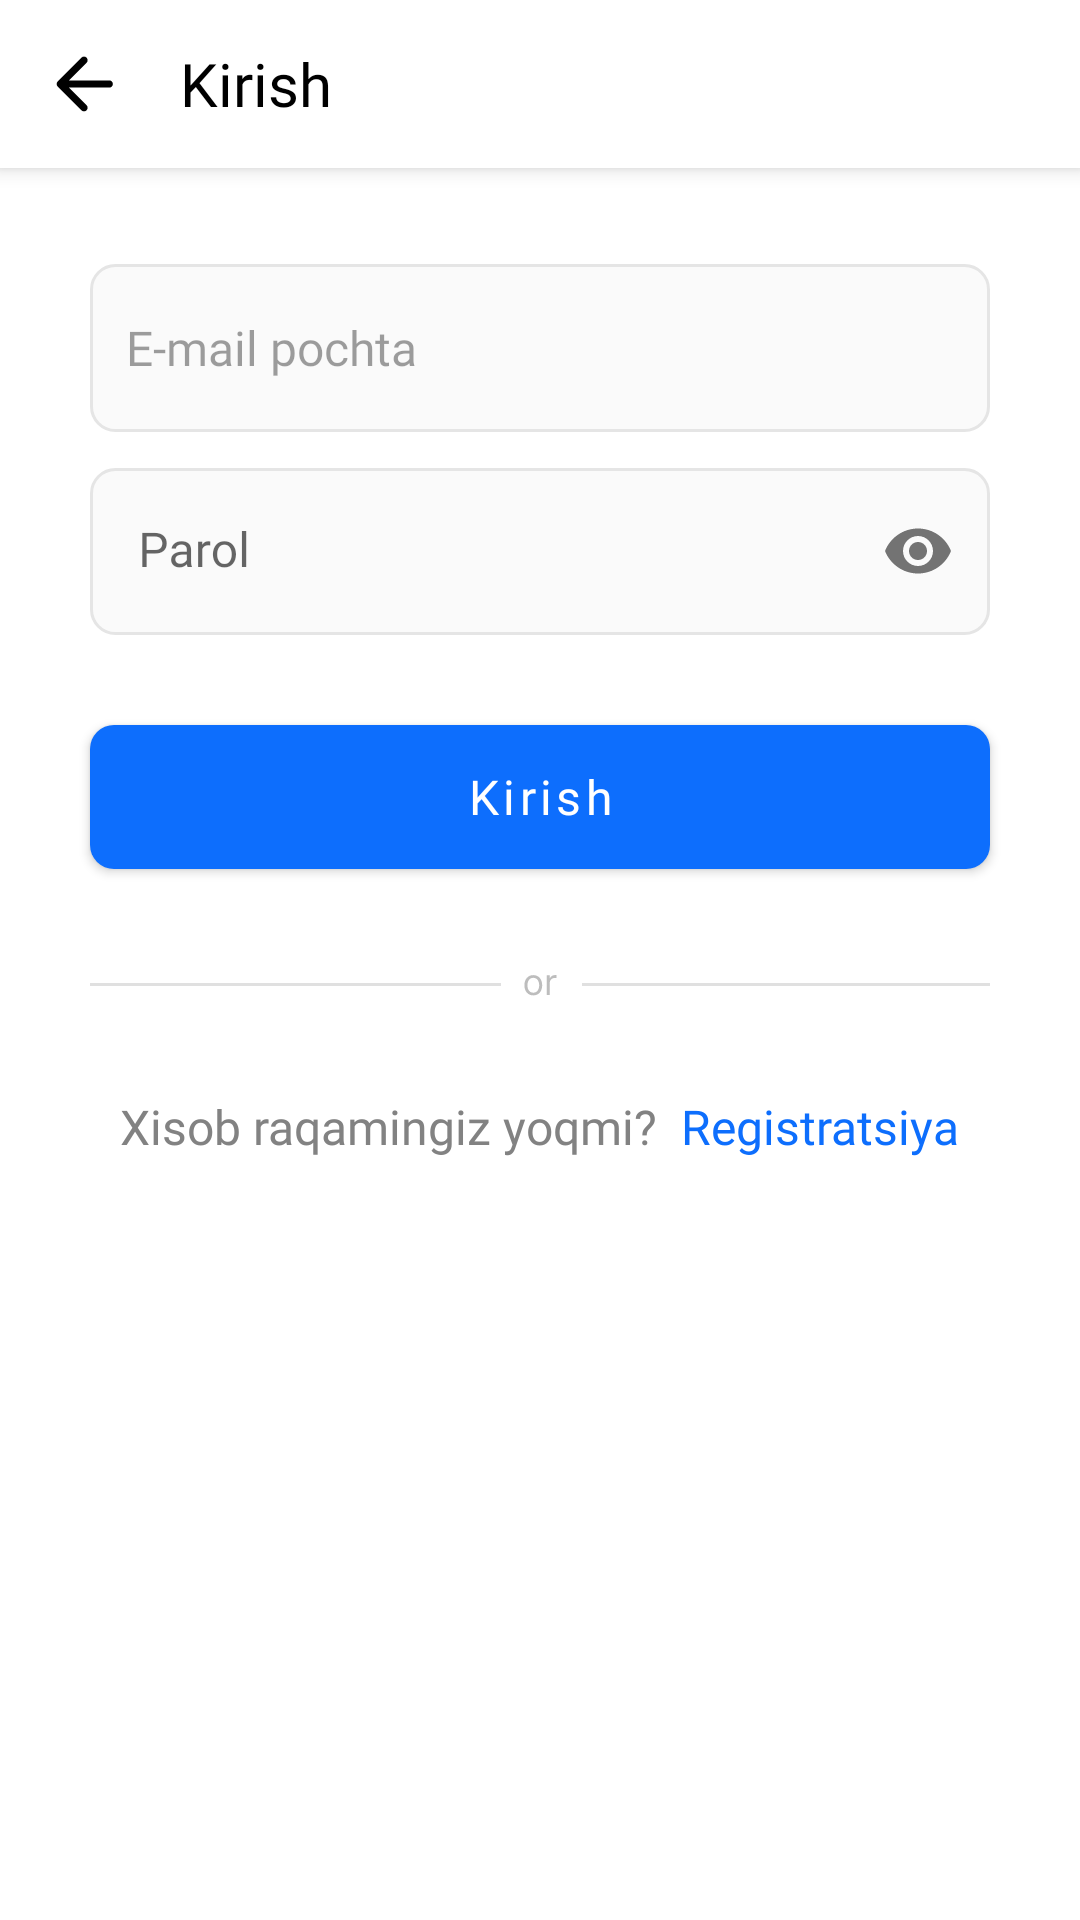

Named icons in this screenshot (1080px×1920px) and their centers, point (x, y):
back: point (84, 84)
